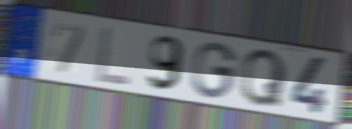4: (289, 54, 332, 117)
7: (50, 21, 87, 75)
9: (146, 34, 185, 93)
G: (190, 41, 238, 101)
L: (93, 24, 132, 88)
Q: (240, 48, 288, 110)
